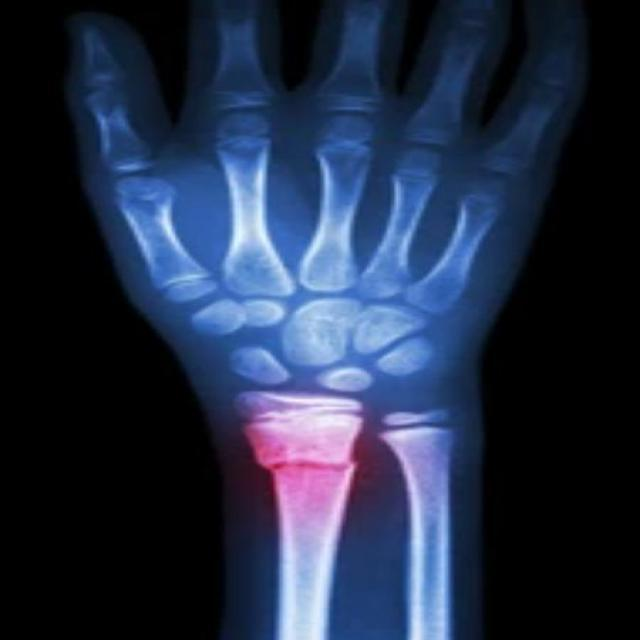bone: (234, 442, 386, 499)
